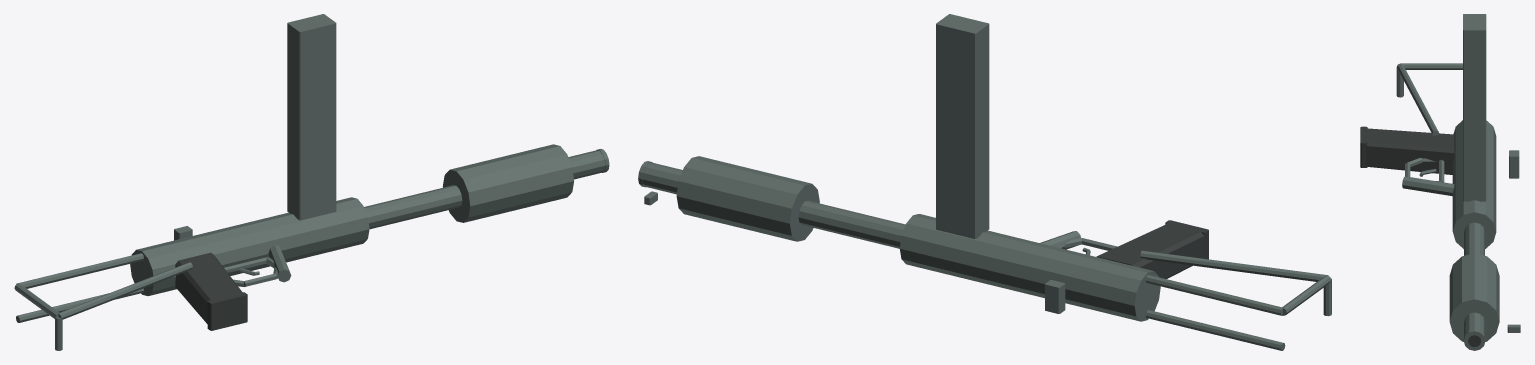
The model's file is weapon-sten.glb.
The picture shows the model from 3 angles, left to right: view 1: azimuth 30°, elevation 25°; view 2: azimuth 150°, elevation 25°; view 3: azimuth 270°, elevation 25°; orthographic projection. The views are drawn at different scales.
Visible parts, largest first — view 1: weapon-sten/left-side-magazine, weapon-sten/round-tubular-receiver, weapon-sten/short-barrel-collar, weapon-sten/round-barrel, weapon-sten/distinct-eight-sided-pistol-grip, weapon-sten/distinct-eight-sided-pistol-grip-heel, weapon-sten/open-wire-stock-3, weapon-sten/open-wire-stock-1, weapon-sten/far-wire-support-1, weapon-sten/simple-under-grip-1; view 2: weapon-sten/round-tubular-receiver, weapon-sten/left-side-magazine, weapon-sten/short-barrel-collar, weapon-sten/round-barrel, weapon-sten/distinct-eight-sided-pistol-grip, weapon-sten/open-wire-stock-3, weapon-sten/far-wire-support-1, weapon-sten/open-wire-stock-1, weapon-sten/rear-sight, weapon-sten/open-wire-stock-2; view 3: weapon-sten/left-side-magazine, weapon-sten/short-barrel-collar, weapon-sten/distinct-eight-sided-pistol-grip, weapon-sten/round-tubular-receiver, weapon-sten/round-barrel, weapon-sten/simple-under-grip-1, weapon-sten/open-wire-stock-3, weapon-sten/open-wire-stock-2, weapon-sten/rear-sight, weapon-sten/round-barrel-end-rim, weapon-sten/distinct-eight-sided-pistol-grip-heel, weapon-sten/wire-butt-width-1.
Part boxes in pixels (box(x1,y1,x2,y2)): weapon-sten/left-side-magazine: box(287, 14, 336, 220); weapon-sten/round-tubular-receiver: box(130, 197, 369, 295); weapon-sten/short-barrel-collar: box(442, 144, 573, 222); weapon-sten/round-barrel: box(364, 150, 605, 229); weapon-sten/distinct-eight-sided-pistol-grip: box(175, 252, 242, 323); weapon-sten/distinct-eight-sided-pistol-grip-heel: box(207, 292, 247, 330); weapon-sten/open-wire-stock-3: box(58, 262, 192, 319); weapon-sten/open-wire-stock-1: box(16, 253, 143, 288); weapon-sten/far-wire-support-1: box(16, 288, 143, 322); weapon-sten/simple-under-grip-1: box(268, 245, 291, 282); weapon-sten/round-tubular-receiver: box(899, 214, 1160, 321); weapon-sten/left-side-magazine: box(936, 14, 989, 238); weapon-sten/short-barrel-collar: box(676, 156, 819, 241); weapon-sten/round-barrel: box(642, 162, 905, 248); weapon-sten/distinct-eight-sided-pistol-grip: box(1096, 222, 1204, 278); weapon-sten/open-wire-stock-3: box(1140, 250, 1328, 281); weapon-sten/far-wire-support-1: box(1145, 310, 1285, 350); weapon-sten/open-wire-stock-1: box(1145, 275, 1282, 315); weapon-sten/rear-sight: box(1045, 280, 1065, 313); weapon-sten/open-wire-stock-2: box(1282, 275, 1331, 315); weapon-sten/left-side-magazine: box(1463, 14, 1486, 201); weapon-sten/short-barrel-collar: box(1449, 253, 1499, 341); weapon-sten/distinct-eight-sided-pistol-grip: box(1364, 128, 1454, 174); weapon-sten/round-tubular-receiver: box(1452, 120, 1496, 248); weapon-sten/round-barrel: box(1464, 222, 1484, 337); weapon-sten/simple-under-grip-1: box(1402, 176, 1454, 196); weapon-sten/open-wire-stock-3: box(1397, 63, 1439, 135); weapon-sten/open-wire-stock-2: box(1400, 63, 1462, 69); weapon-sten/rear-sight: box(1509, 150, 1519, 178); weapon-sten/round-barrel-end-rim: box(1463, 329, 1485, 350); weapon-sten/distinct-eight-sided-pistol-grip-heel: box(1360, 126, 1367, 167); weapon-sten/wire-butt-width-1: box(1396, 67, 1403, 97).
Bounding box in the file's own units: 0.766 × 0.29 × 0.1985.
2 materials, 2 textured.
